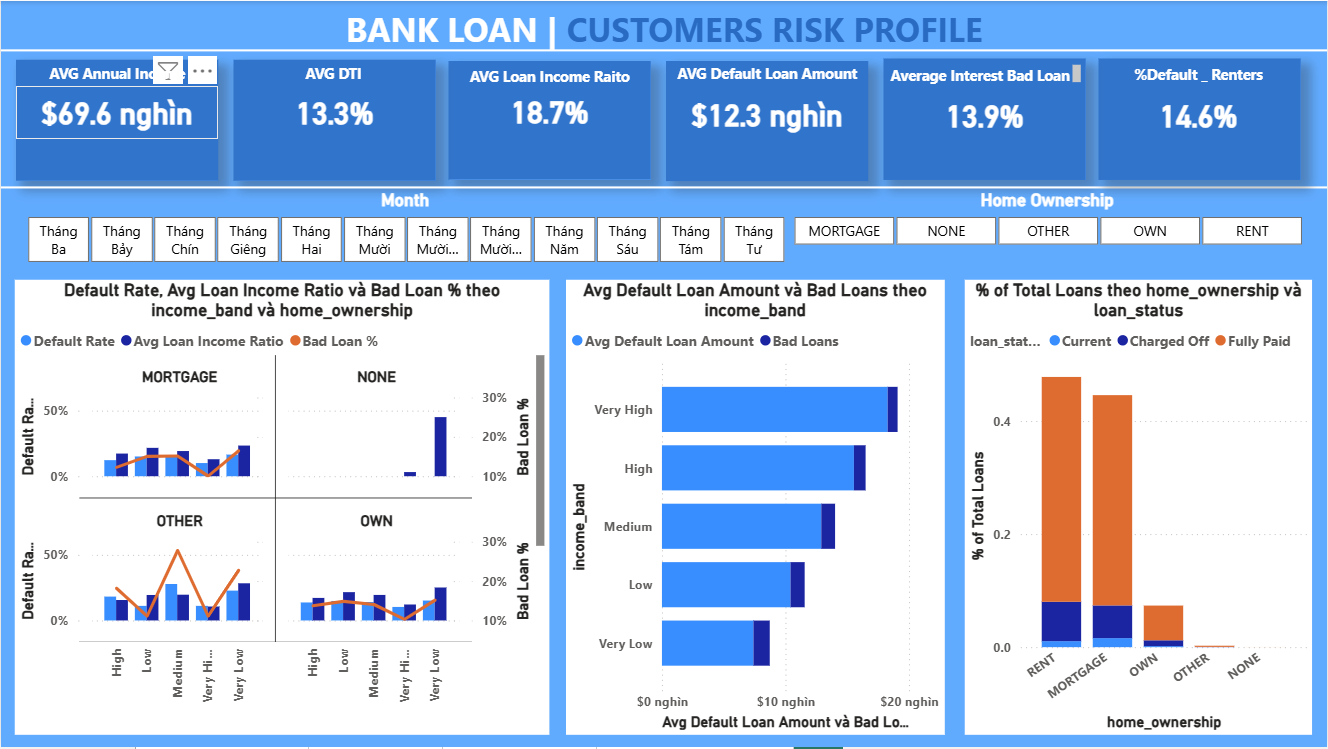

The page's visual inventory and layout, read from the dashboard file:
{"tool":"powerbi","page":{"name":"Customer Risk Profile","canvas":[1280,720],"ordinal":3},"visuals":[{"type":"shape","box":[14.1,56.6,195.4,117],"z":0},{"type":"card","fields":{"Values":["Measure.Avg Annual Income"]},"box":[14.6,82.2,195.4,50.7],"z":1000},{"type":"textbox","box":[14.6,55.6,195.4,31.4],"z":2000},{"type":"shape","box":[224.5,56.8,195.4,117],"z":3000},{"type":"card","fields":{"Values":["Measure.AVG dti"]},"box":[224.5,82.2,195.4,50.7],"z":4000},{"type":"textbox","box":[223.2,55,195.4,32.3],"z":5000},{"type":"shape","box":[431.8,58.2,195.4,114.6],"z":6000},{"type":"card","fields":{"Values":["Measure.Avg Loan Income Ratio"]},"box":[431.7,80.8,195.4,50.7],"z":7000},{"type":"textbox","box":[431.8,58.2,195.4,33.7],"z":8000},{"type":"shape","box":[642.3,57.7,195.4,115.9],"z":9000},{"type":"card","fields":{"Values":["Measure.Avg Default Loan Amount"]},"box":[641.8,83.5,195.4,50.7],"z":10000},{"type":"textbox","box":[641.8,55.7,195.4,32.6],"z":11000},{"type":"shape","box":[852,56.1,195.4,117.2],"z":12000},{"type":"card","fields":{"Values":["Calendar.Average Interest BadLoan"]},"box":[851.3,84.8,195.4,50.7],"z":13000},{"type":"textbox","box":[851.3,57.1,195.4,32.6],"z":14000},{"type":"textbox","box":[0,0,1280.3,52.6],"z":15000},{"type":"shape","box":[0,39.8,1280,15.7],"z":16000},{"type":"lineClusteredColumnComboChart","fields":{"Category":["financial_loan.income_band"],"Y":["Measure.Default Rate","Measure.Avg Loan Income Ratio"],"Y2":["Measure.Bad Loan %"],"Rows":["financial_loan.home_ownership"]},"box":[13.5,269.5,516.2,439.3],"z":17000},{"type":"shape","box":[0,172.5,1280.3,14.8],"z":18000},{"type":"shape","box":[1059.3,55.3,195.4,117.2],"z":19000},{"type":"card","fields":{"Values":["Calendar.Default Rate Rent"]},"box":[1058.6,84.1,195.4,50.7],"z":20000},{"type":"textbox","box":[1058.6,56.3,195.4,32.6],"z":21000},{"type":"barChart","fields":{"Category":["financial_loan.income_band"],"Y":["Measure.Avg Default Loan Amount","Measure.Bad Loans"]},"box":[545.8,269.5,365.2,439.3],"z":22000},{"type":"columnChart","fields":{"Category":["financial_loan.home_ownership"],"Y":["Measure.% of Total Loans"],"Series":["financial_loan.loan_status"]},"box":[929.9,269.5,335.6,439.3],"z":23000},{"type":"slicer","title":"Month","fields":{"Values":["Calendar.Month"]},"box":[0,181.9,780.3,74.1],"z":24000},{"type":"slicer","title":"Home Ownership","fields":{"Values":["financial_loan.home_ownership"]},"box":[739.9,181.9,540.4,55.3],"z":25000}]}

Visuals, with their boxes in screenshot pixels (x1, y1, x2, y2), scaled from the page's 1280x720 canvas onto the 1328x749 screenshot:
shape: select_region(15, 59, 217, 181)
card - Measure.Avg Annual Income: select_region(15, 86, 218, 138)
textbox: select_region(15, 58, 218, 91)
shape: select_region(233, 59, 436, 181)
card - Measure.AVG dti: select_region(233, 86, 436, 138)
textbox: select_region(232, 57, 434, 91)
shape: select_region(448, 61, 651, 180)
card - Measure.Avg Loan Income Ratio: select_region(448, 84, 651, 137)
textbox: select_region(448, 61, 651, 96)
shape: select_region(666, 60, 869, 181)
card - Measure.Avg Default Loan Amount: select_region(666, 87, 869, 140)
textbox: select_region(666, 58, 869, 92)
shape: select_region(884, 58, 1087, 180)
card - Calendar.Average Interest BadLoan: select_region(883, 88, 1086, 141)
textbox: select_region(883, 59, 1086, 93)
textbox: select_region(0, 0, 1327, 55)
shape: select_region(0, 41, 1327, 58)
lineClusteredColumnComboChart - financial_loan.income_band x Measure.Default Rate: select_region(14, 280, 550, 737)
shape: select_region(0, 179, 1327, 195)
shape: select_region(1099, 58, 1302, 179)
card - Calendar.Default Rate Rent: select_region(1098, 87, 1301, 140)
textbox: select_region(1098, 59, 1301, 92)
barChart - financial_loan.income_band x Measure.Avg Default Loan Amount: select_region(566, 280, 945, 737)
columnChart - financial_loan.home_ownership x Measure.% of Total Loans: select_region(965, 280, 1313, 737)
"Month" slicer: select_region(0, 189, 810, 266)
"Home Ownership" slicer: select_region(768, 189, 1327, 247)
